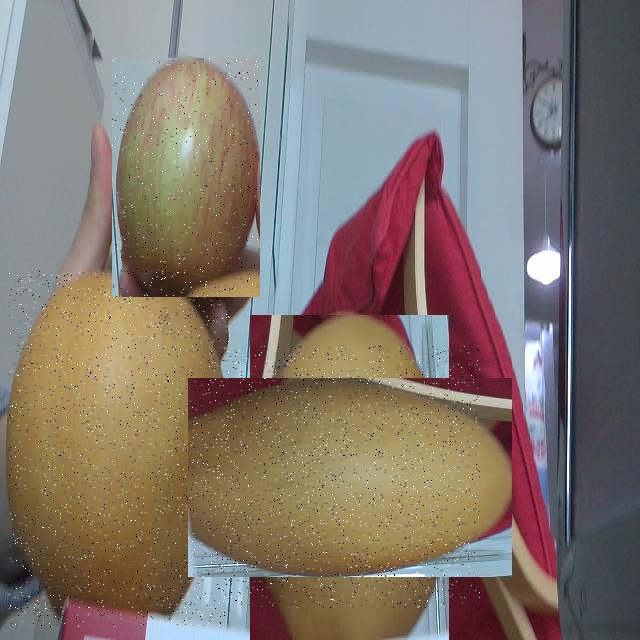apple: (112, 58, 260, 297)
pear: (9, 271, 230, 627), (218, 346, 481, 608)
